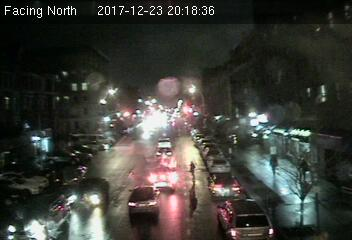car: (6, 191, 72, 236), (214, 196, 274, 239), (67, 177, 107, 205), (127, 185, 163, 215), (206, 172, 240, 197), (148, 167, 177, 189), (208, 155, 231, 173), (155, 147, 173, 157)
pedestrian: (269, 152, 281, 180)
